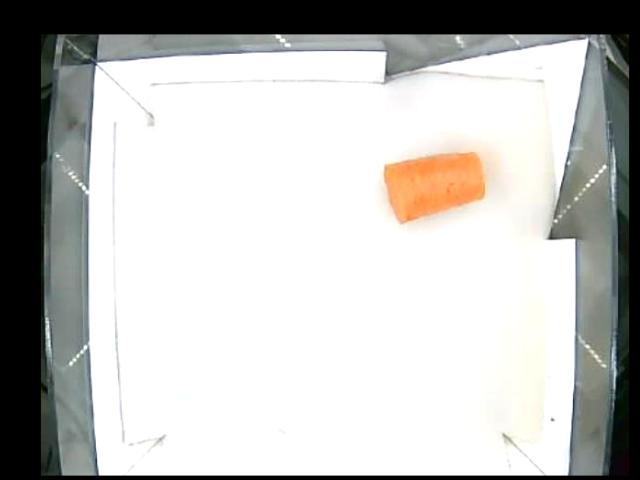Carrot: (379, 151, 485, 224)
